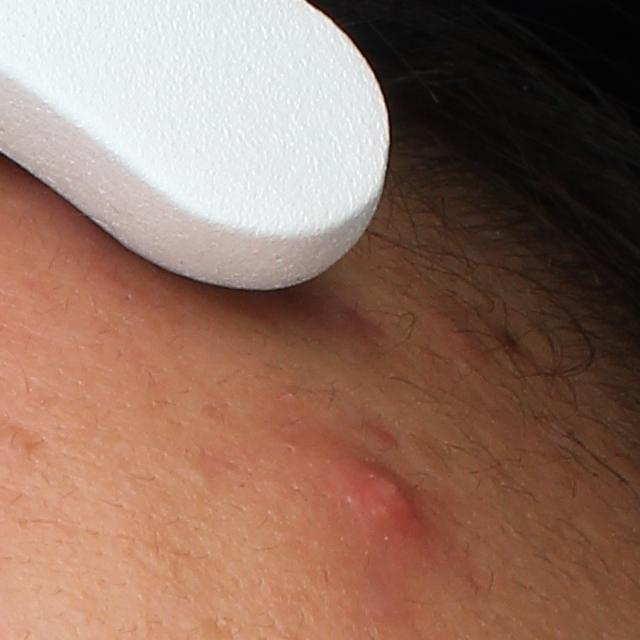papule: (337, 455, 430, 541)
